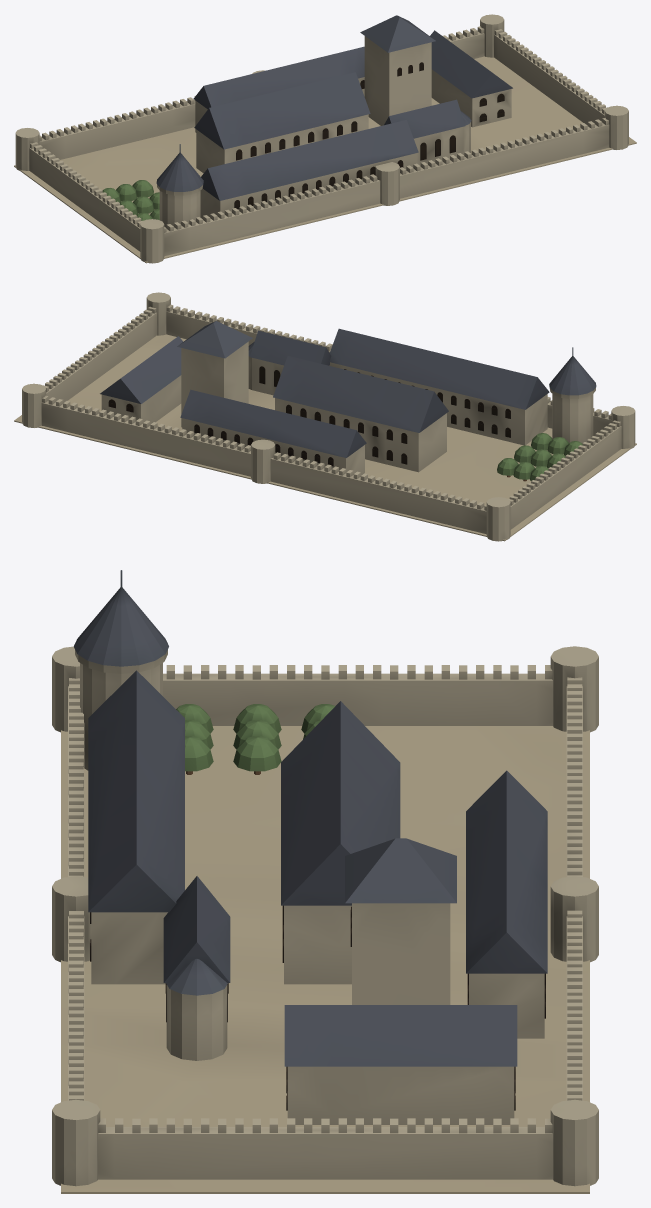
The model's file is palais-cite-1250.glb.
The picture shows the model from 3 angles, top to bottom: view 1: azimuth 30°, elevation 25°; view 2: azimuth 150°, elevation 25°; view 3: azimuth 270°, elevation 25°; orthographic projection. The views are drawn at different scales.
Parts seen in each view (by area): view 1: p0_walls, p1_halls, p2_keep; view 2: p1_halls, p0_walls, p2_keep; view 3: p0_walls, p1_halls, p2_keep.
Boxes of the visible parts, bbox=[...] form: p0_walls: bbox=[14, 14, 636, 263]; p1_halls: bbox=[102, 30, 512, 227]; p2_keep: bbox=[360, 15, 435, 125]; p1_halls: bbox=[100, 328, 596, 481]; p0_walls: bbox=[14, 292, 636, 541]; p2_keep: bbox=[177, 321, 252, 427]; p0_walls: bbox=[52, 646, 598, 1193]; p1_halls: bbox=[73, 570, 547, 1124]; p2_keep: bbox=[345, 838, 456, 1004].
Size of the model in its own units: 150 by 30.06 by 72.4.
